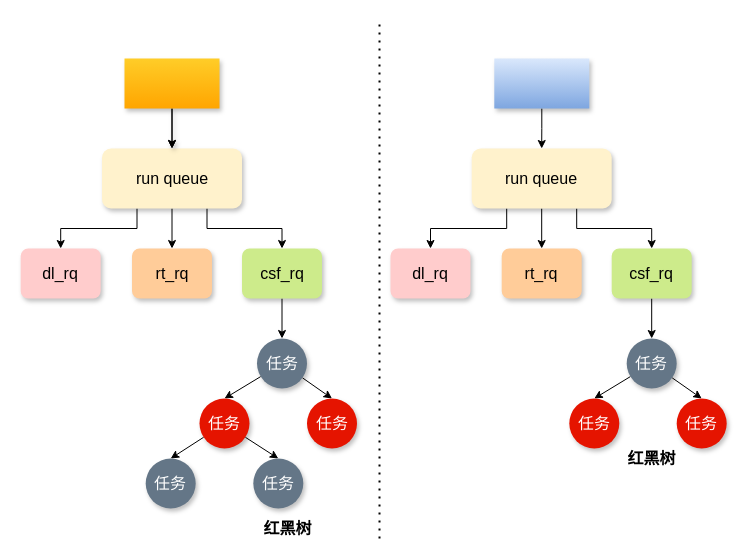
The diagram is 751 pixels wide and 557 high, and some of its shapes have lost their labels. The shapes that lost their labels are listed below. From the top down, each one's centre as x and y in pixels, then its label:
At (172,84): "CPU 0".
At (542,84): "CPU 1".
